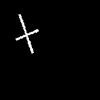single_crochet: (16, 15, 37, 52)
